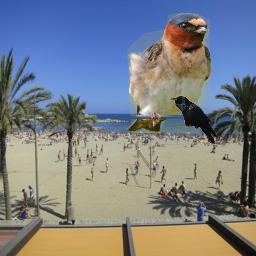Crow: (170, 96, 217, 144)
Swallow: (126, 13, 214, 133)
